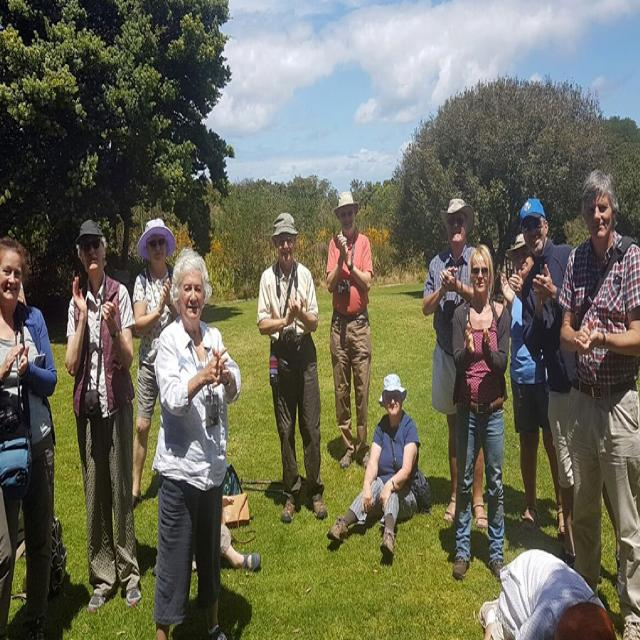body: (410, 463, 639, 639), (556, 164, 640, 639), (518, 196, 622, 578), (149, 244, 243, 639), (61, 213, 144, 614), (0, 229, 59, 639), (255, 207, 329, 525), (422, 196, 491, 530), (450, 242, 511, 581), (500, 230, 567, 538), (326, 371, 420, 559), (128, 218, 181, 512), (324, 189, 375, 470), (476, 548, 618, 640), (187, 493, 262, 574)
